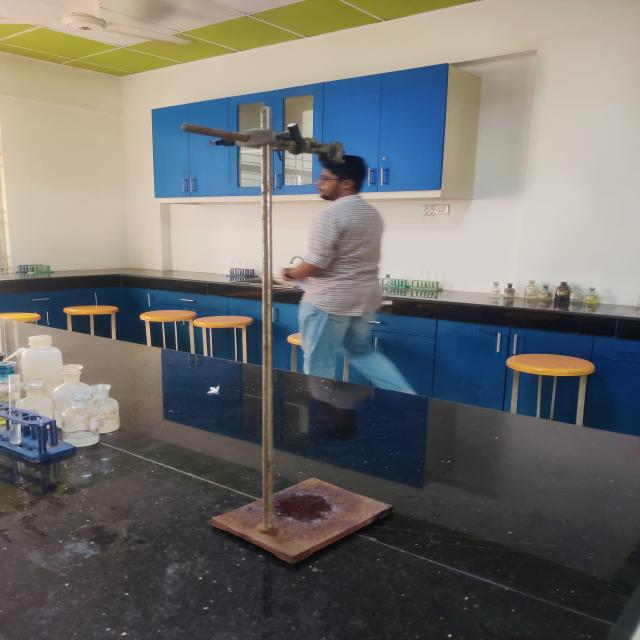Burette_Stands: (146, 95, 412, 578)
